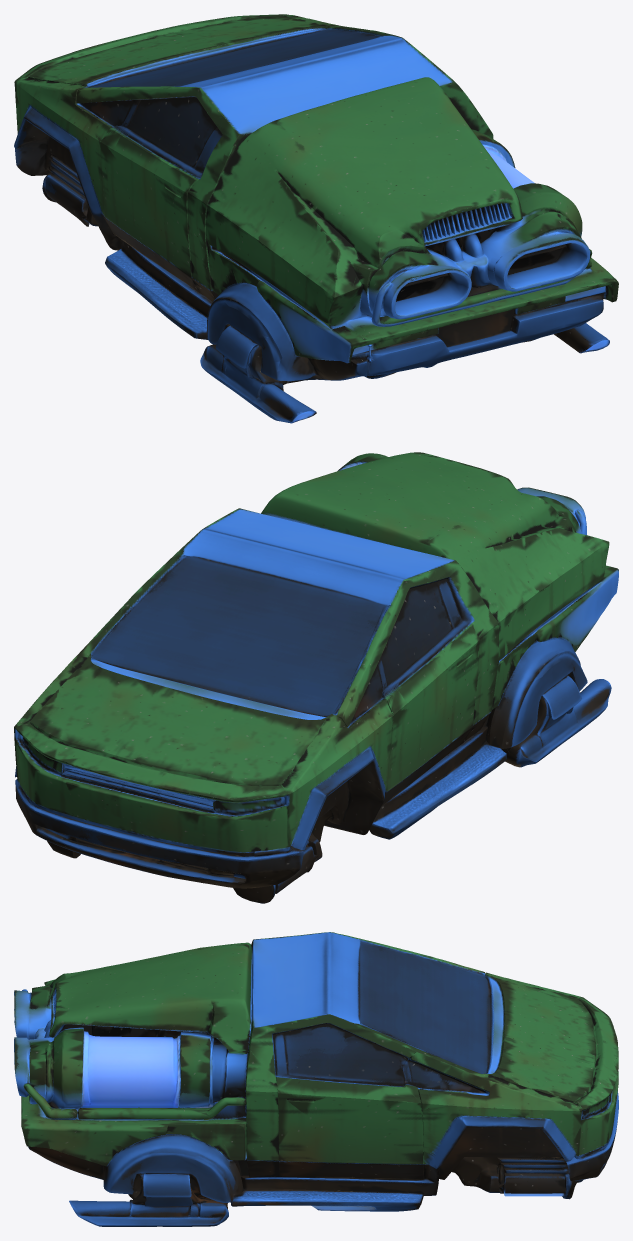
The model's file is sandboxer_tide.glb.
3 views of the same model, one above another, from view 1: azimuth 30°, elevation 25°; view 2: azimuth 150°, elevation 25°; view 3: azimuth 270°, elevation 25° (orthographic). The views are drawn at different scales.
Parts seen in each view (by area): view 1: model; view 2: model; view 3: model.
Part boxes in pixels (box(x1,y1,x2,y2)): model: box(14, 14, 618, 423); model: box(14, 452, 618, 903); model: box(14, 932, 618, 1226).
Bounding box in the file's own units: 2.7 × 1.75 × 4.96.
Materials: 1 (1 with a texture image).
